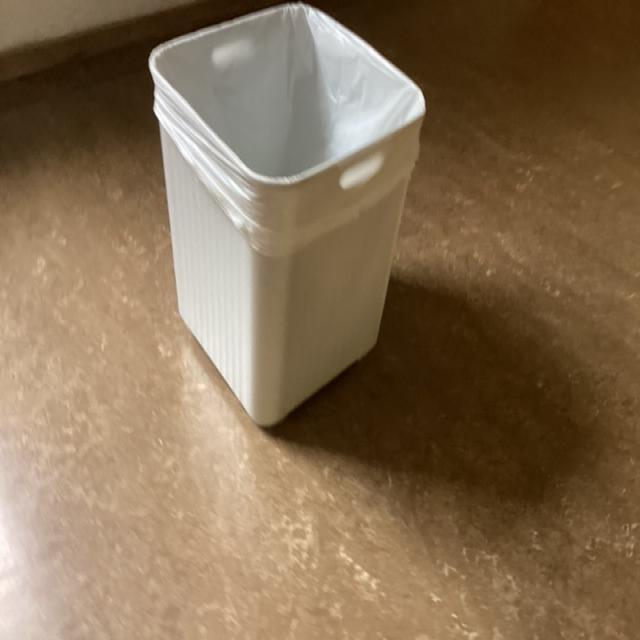garbage container: (127, 0, 440, 443)
